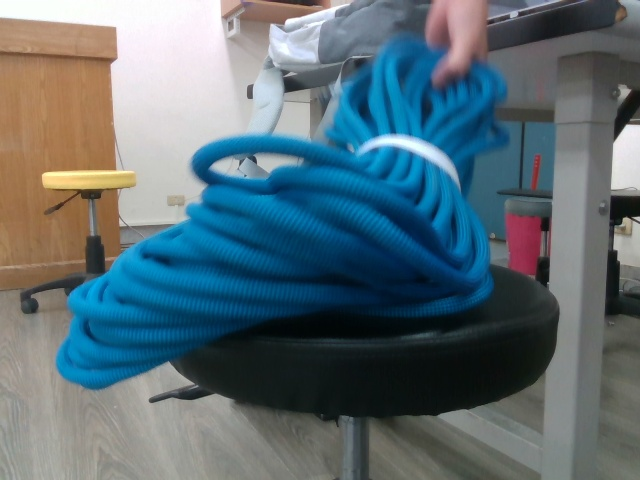rope: (54, 28, 514, 389)
